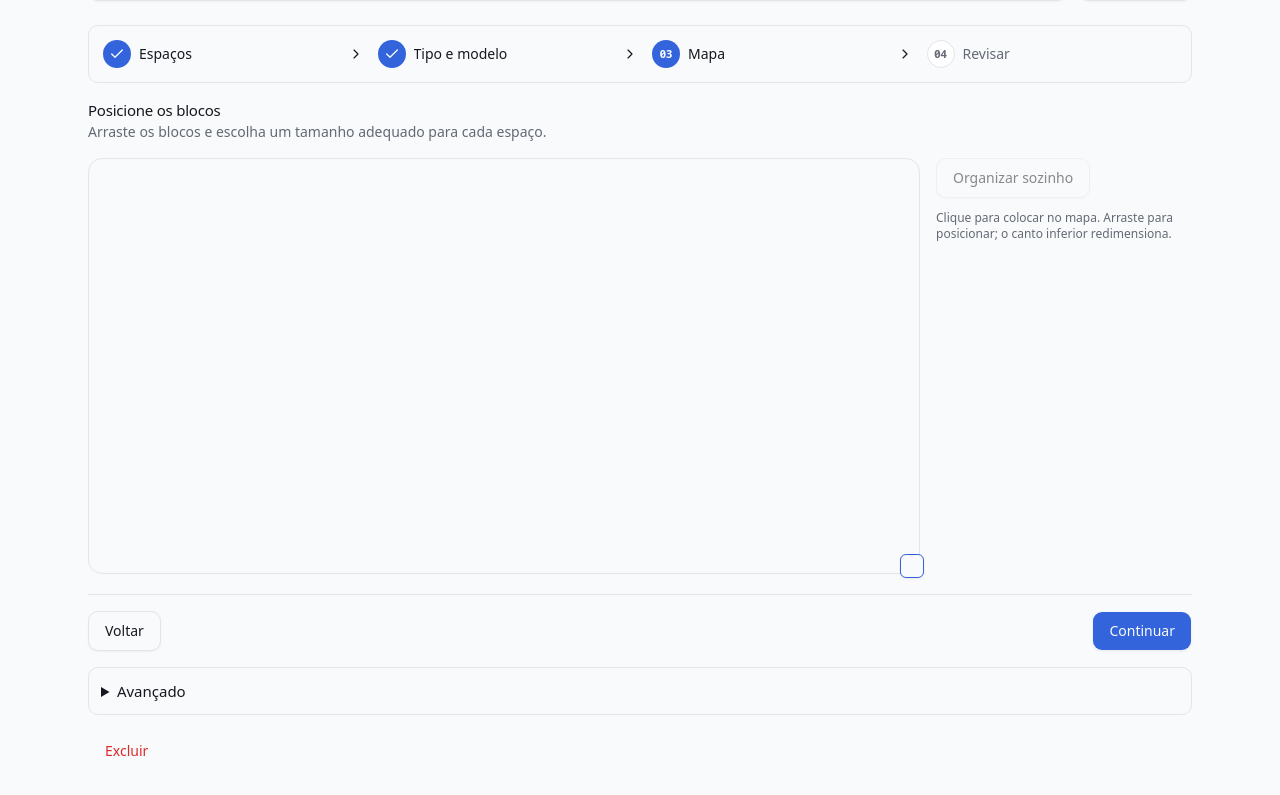
Test case: RentalLayoutsPage › rejects a final save without placements with the translated validation error
(page scrolled)
Click the button "Continuar".
click(1142, 630)  # box [1092, 610, 1192, 650]
(page scrolled)
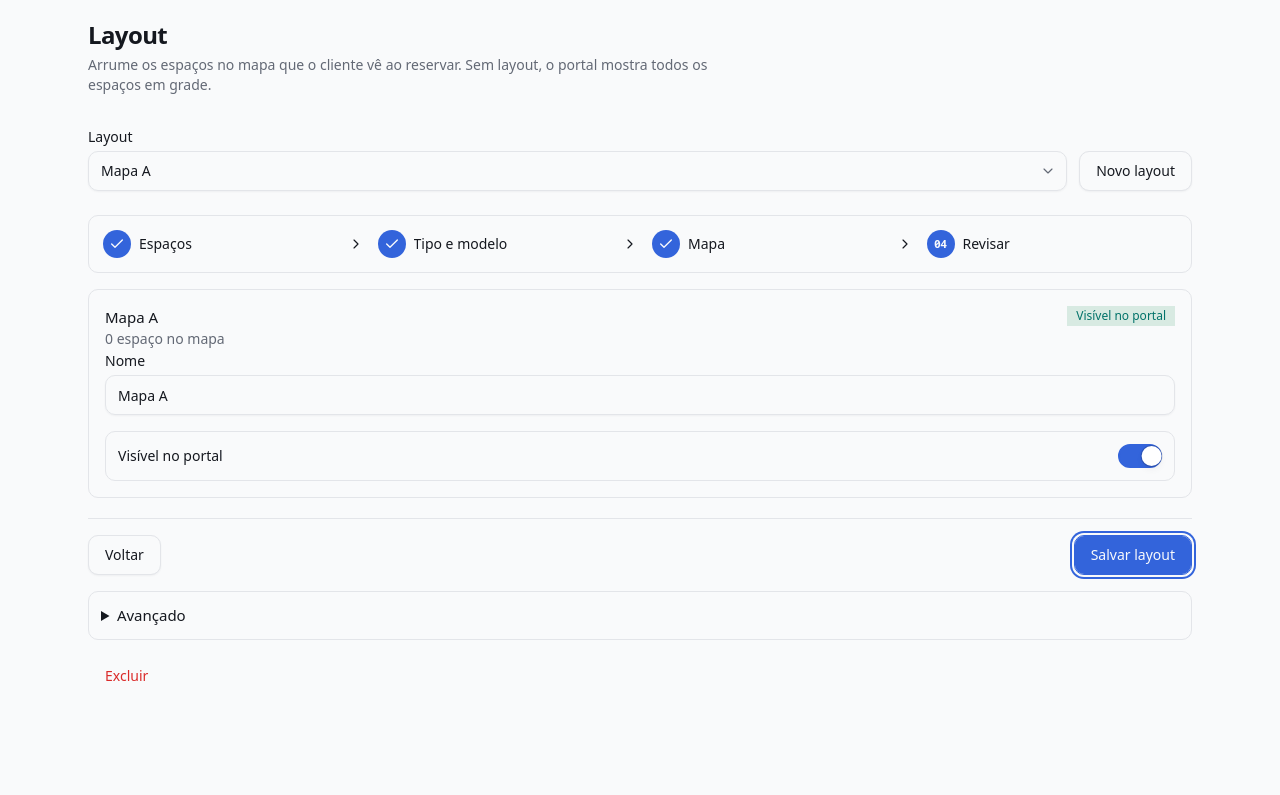
Click the button "Salvar layout".
click(1133, 555)  # box [1074, 535, 1192, 575]
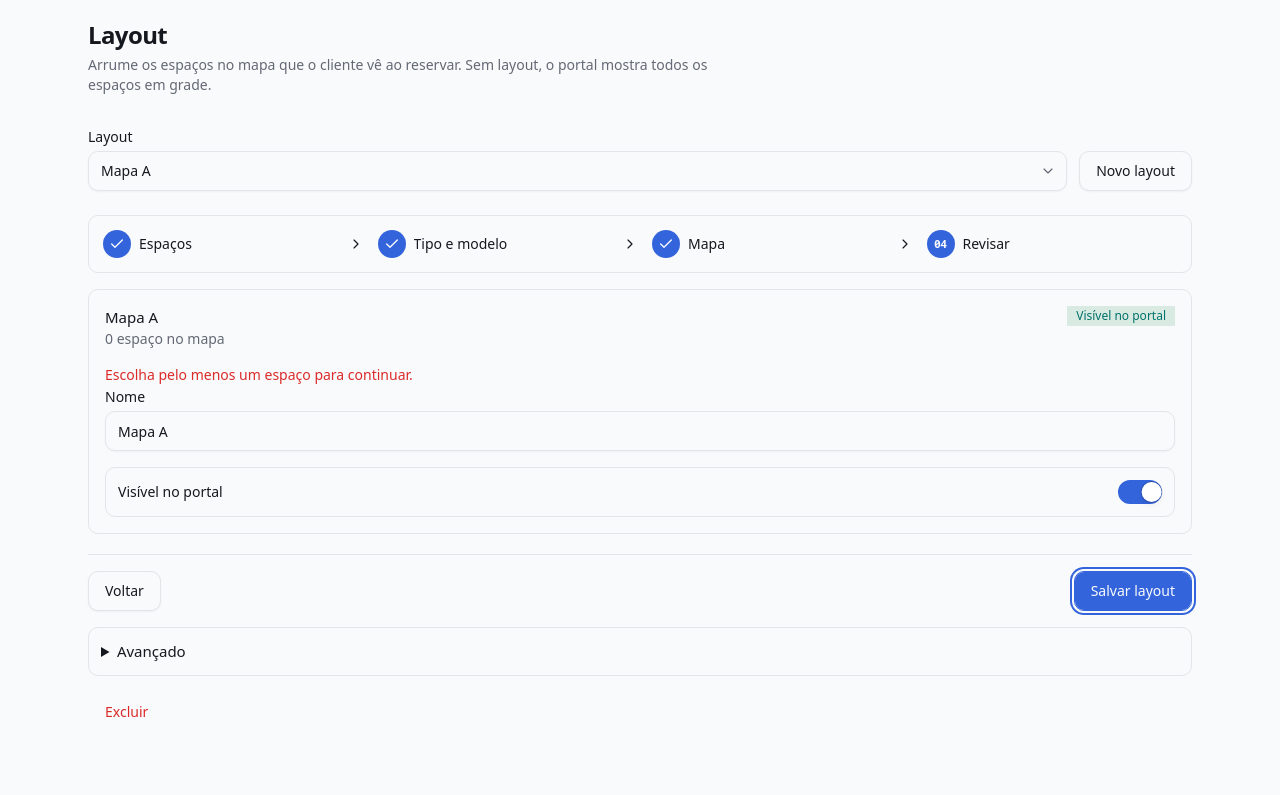
Now the message reads "Escolha pelo menos um espaço para continuar.", box [105, 364, 413, 384]
